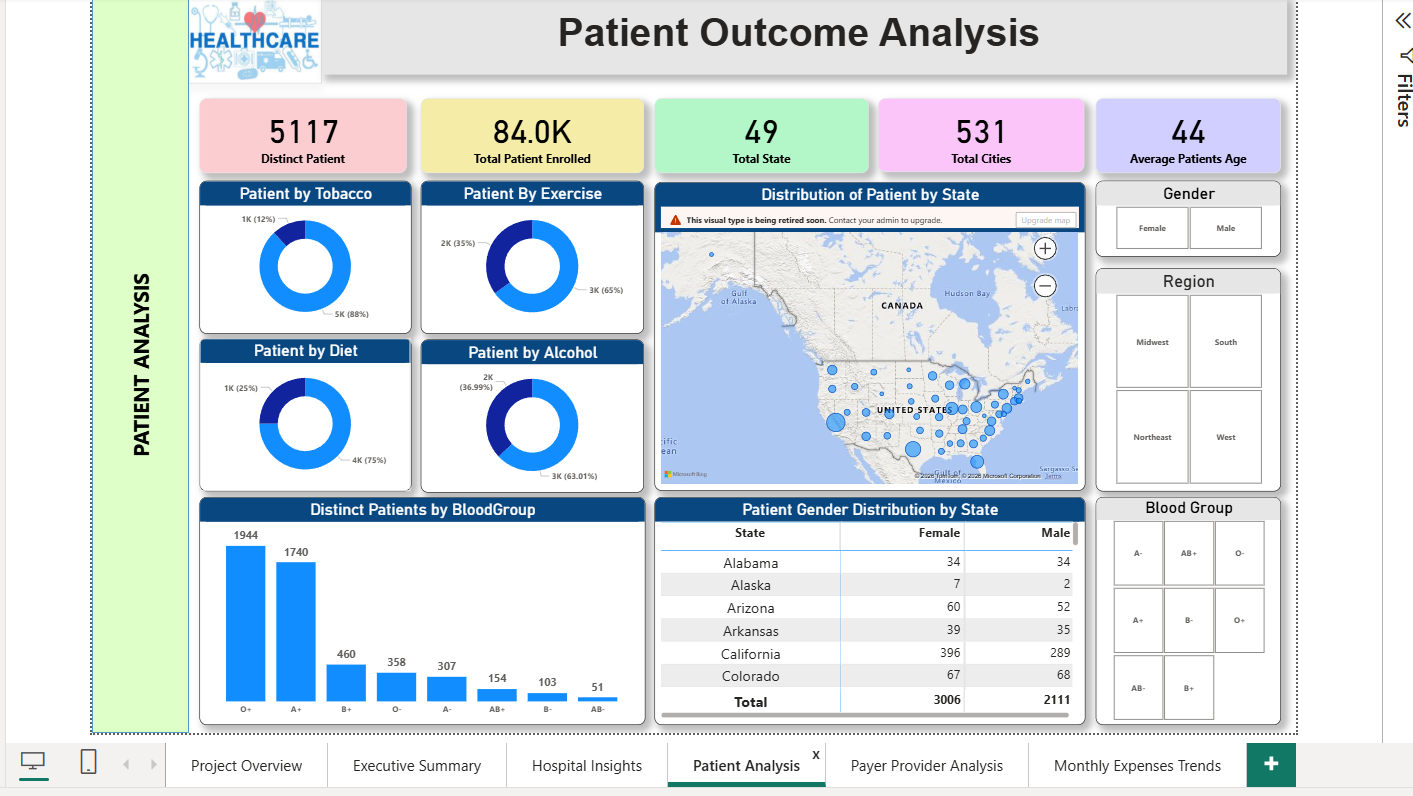

This screenshot's page, from the dashboard's own definition file:
{"tool":"powerbi","page":{"name":"Patient Analysis","canvas":[1800,1100],"ordinal":3},"visuals":[{"type":"image","box":[144.2,0,199.5,129.1],"z":0},{"type":"textbox","box":[344,0,1442,116],"z":1000},{"type":"shape","box":[0,0,144.6,1100],"z":2000},{"type":"card","fields":{"Values":["FactTable.DistinctPatient"]},"box":[160.1,151.5,309.9,111.9],"z":3000},{"type":"card","fields":{"Values":["CountNonNull(FactTable.dimPatientPK)"]},"box":[490.6,151.5,334,111.9],"z":4000},{"type":"card","fields":{"Values":["Count(DimPatient.State)"]},"box":[840.1,151.5,320.2,111.9],"z":5000},{"type":"card","fields":{"Values":["Count(DimPatient.City)"]},"box":[1175.7,151.5,308.1,110.2],"z":6000},{"type":"card","fields":{"Values":["Avg(DimPatient.PatientAge)"]},"box":[1501.1,151.5,277.2,111.9],"z":7000},{"type":"donutChart","title":"Patient by Tobacco","fields":{"Category":["DimPatient.Tobacco"],"Y":["FactTable.DistinctPatient"]},"box":[160.1,275.4,316.7,229],"z":8000},{"type":"donutChart","title":"Patient By Exercise","fields":{"Category":["DimPatient.Exercise"],"Y":["FactTable.DistinctPatient"]},"box":[490.6,275.4,334,229],"z":9000},{"type":"donutChart","title":"Patient by Diet","fields":{"Y":["FactTable.DistinctPatient"],"Category":["DimPatient.Diet"]},"box":[160.1,509.5,316.7,229],"z":10000},{"type":"donutChart","title":"Patient by Alcohol","fields":{"Category":["DimPatient.Alcohol"],"Y":["FactTable.DistinctPatient"]},"box":[490.6,511.3,334,229],"z":11000},{"type":"clusteredColumnChart","title":"Distinct Patients by BloodGroup","fields":{"Y":["FactTable.DistinctPatient"],"Category":["DimPatient.BloodGroup"]},"box":[160.1,747.1,666.2,340.8],"z":12000},{"type":"map","title":"Distribution of Patient by State","fields":{"Category":["DimPatient.State"],"Size":["FactTable.DistinctPatient"]},"box":[840.1,277.2,643.8,461.3],"z":13000},{"type":"slicer","title":"Gender","fields":{"Values":["DimPatient.PatientGender"]},"box":[1501.1,275.4,277.2,113.6],"z":14000},{"type":"slicer","title":"Region","fields":{"Values":["DimPatient.Region"]},"box":[1501.1,404.5,277.2,334],"z":15000},{"type":"slicer","title":"Blood Group","fields":{"Values":["DimPatient.BloodGroup"]},"box":[1501.1,747.1,277.2,340.8],"z":16000},{"type":"pivotTable","title":"Patient Gender Distribution by State","fields":{"Rows":["DimPatient.State"],"Columns":["DimPatient.PatientGender"],"Values":["FactTable.DistinctPatient"]},"box":[840.1,747.1,643.8,340.8],"z":17000}]}

Visuals, with their boxes on the page's 1800x1100 design canvas (x1, y1, x2, y2). These are canvas units, not pixel positions in the 1413x796 screenshot, which may show the page scaled, cropped or inside an application window:
image: crop(144, 0, 344, 129)
textbox: crop(344, 0, 1786, 116)
shape: crop(0, 0, 145, 1100)
card - FactTable.DistinctPatient: crop(160, 152, 470, 263)
card - CountNonNull(FactTable.dimPatientPK): crop(491, 152, 825, 263)
card - Count(DimPatient.State): crop(840, 152, 1160, 263)
card - Count(DimPatient.City): crop(1176, 152, 1484, 262)
card - Avg(DimPatient.PatientAge): crop(1501, 152, 1778, 263)
"Patient by Tobacco" donutChart: crop(160, 275, 477, 504)
"Patient By Exercise" donutChart: crop(491, 275, 825, 504)
"Patient by Diet" donutChart: crop(160, 510, 477, 738)
"Patient by Alcohol" donutChart: crop(491, 511, 825, 740)
"Distinct Patients by BloodGroup" clusteredColumnChart: crop(160, 747, 826, 1088)
"Distribution of Patient by State" map: crop(840, 277, 1484, 738)
"Gender" slicer: crop(1501, 275, 1778, 389)
"Region" slicer: crop(1501, 404, 1778, 738)
"Blood Group" slicer: crop(1501, 747, 1778, 1088)
"Patient Gender Distribution by State" pivotTable: crop(840, 747, 1484, 1088)
